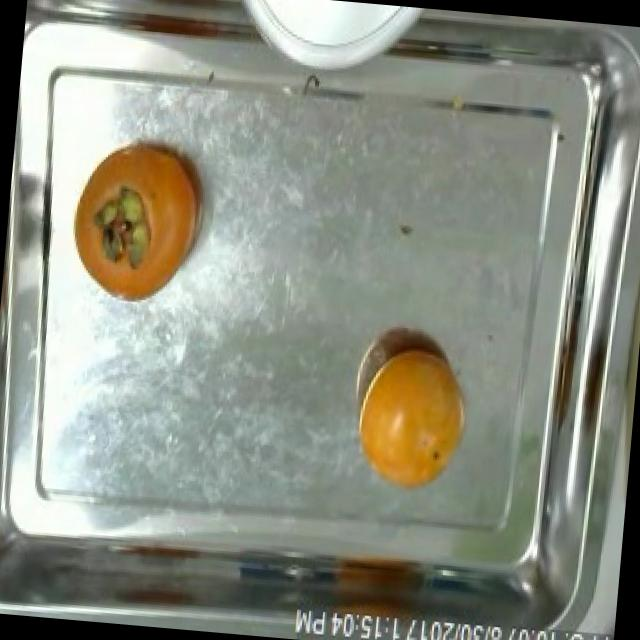Fruit: (54, 119, 222, 320), (349, 333, 478, 502)
